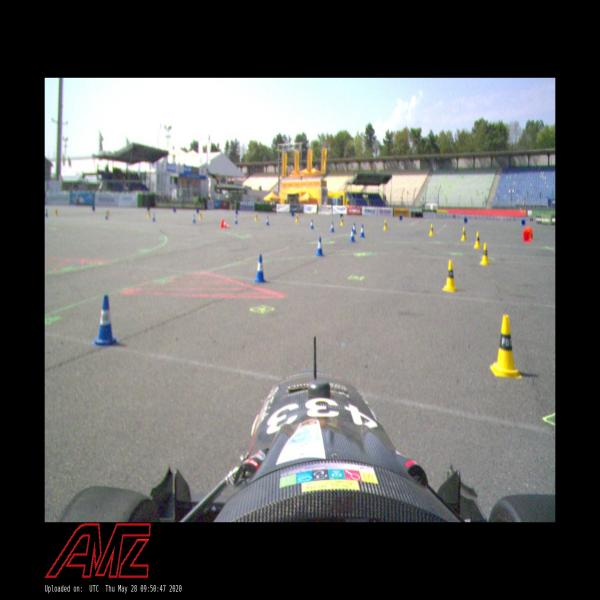blue_cone: (92, 294, 120, 346), (253, 254, 266, 283), (316, 237, 324, 256), (349, 227, 356, 242), (359, 224, 366, 238), (352, 223, 357, 234), (265, 216, 270, 226), (330, 221, 334, 232), (234, 215, 238, 224), (192, 214, 196, 223), (152, 213, 156, 222), (522, 219, 526, 226), (464, 218, 468, 224), (399, 215, 403, 220)
orange_cone: (522, 229, 532, 242), (221, 219, 230, 229), (525, 227, 533, 238)
yellow_cone: (490, 314, 522, 378), (443, 260, 458, 293), (479, 243, 491, 265), (474, 231, 481, 248), (460, 226, 467, 241), (429, 223, 435, 235), (383, 219, 388, 230), (340, 215, 344, 226), (310, 219, 314, 229), (254, 212, 258, 221), (295, 214, 299, 222), (146, 210, 150, 218), (199, 211, 202, 220)
